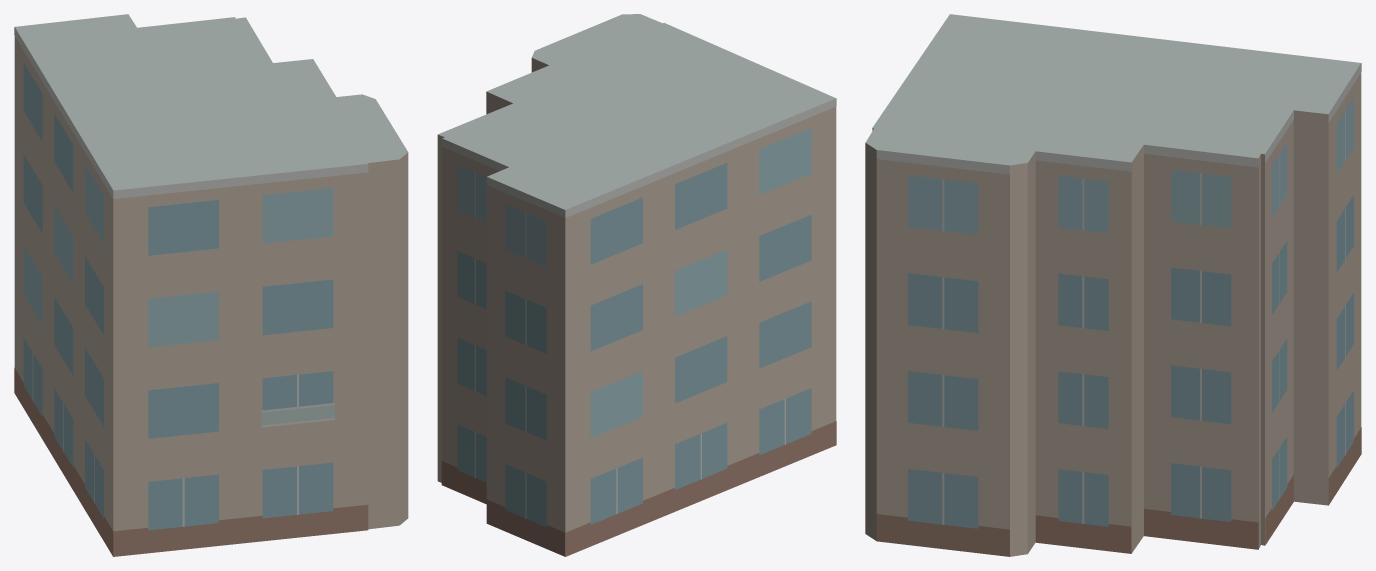
Rendered from survey-upis-32926469.glb.
3 renders of one model, left to right at view 1: azimuth 30°, elevation 25°; view 2: azimuth 150°, elevation 25°; view 3: azimuth 270°, elevation 25°, orthographic. The views are drawn at different scales.
Parts seen in each view (by area): view 1: survey-upis-32926469.tmp; view 2: survey-upis-32926469.tmp; view 3: survey-upis-32926469.tmp.
Boxes of the visible parts, box(x1,y1,x2,y2) form: survey-upis-32926469.tmp: box(14, 14, 408, 556); survey-upis-32926469.tmp: box(437, 14, 836, 556); survey-upis-32926469.tmp: box(865, 14, 1361, 556).
Bounding box in the file's own units: 8.73 × 10.5 × 12.06.
